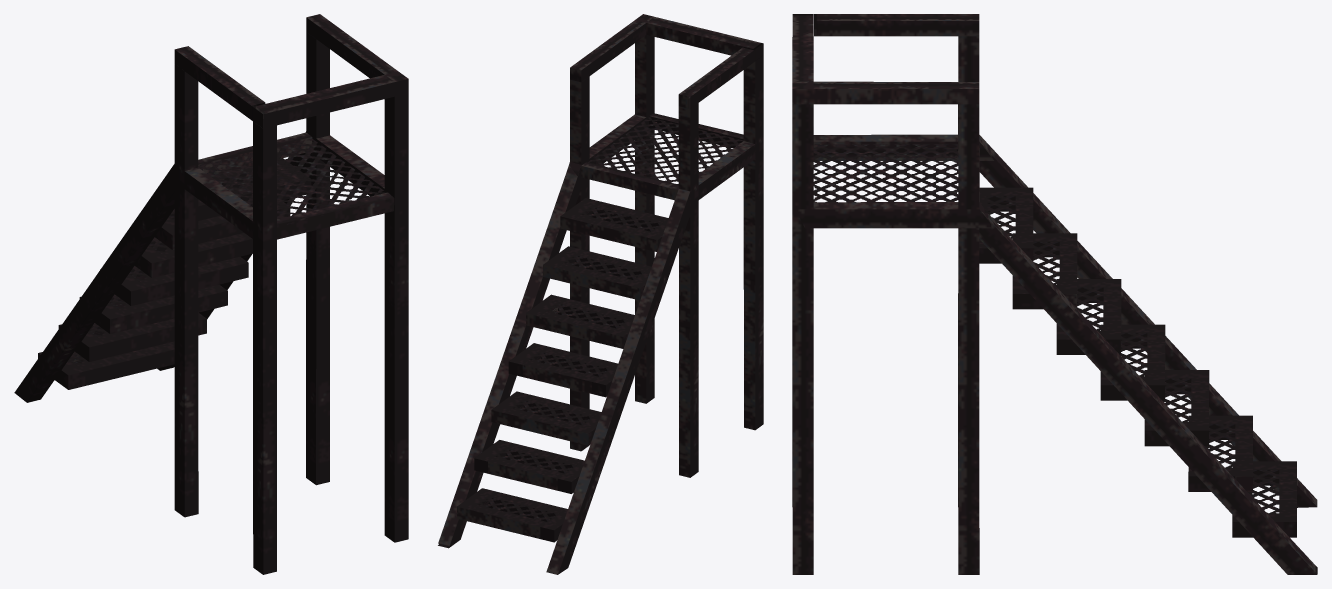
Rendered from SM_EC_Barn_Steps_1.fbx.
3 views of the same model, side by side, from view 1: azimuth 30°, elevation 25°; view 2: azimuth 150°, elevation 25°; view 3: azimuth 270°, elevation 25° (orthographic). The views are drawn at different scales.
Parts seen in each view (by area): view 1: SM_EC_Barn_Steps_1; view 2: SM_EC_Barn_Steps_1; view 3: SM_EC_Barn_Steps_1.
Part boxes in pixels (left/top/right/bottom): SM_EC_Barn_Steps_1: left=14, top=14, right=408, bottom=574; SM_EC_Barn_Steps_1: left=438, top=14, right=763, bottom=574; SM_EC_Barn_Steps_1: left=792, top=14, right=1317, bottom=574.
Bounding box in the file's own units: 1.05 × 3.11 × 3.18.
